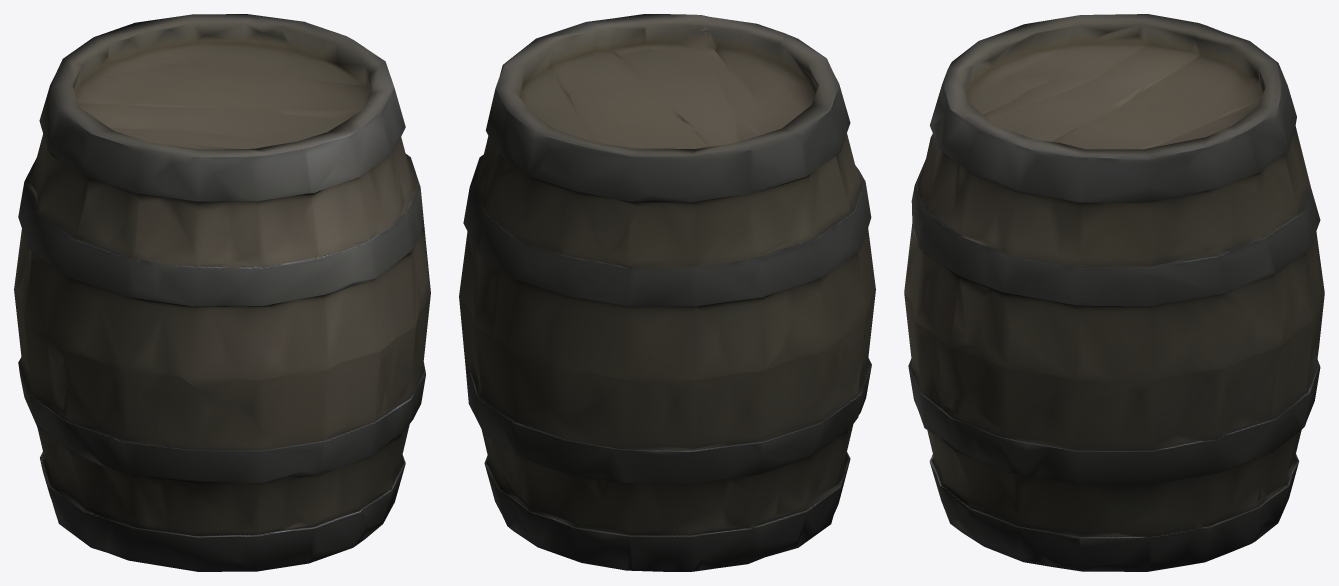
Rendered from wooden_barrel.glb.
3 renders of one model, left to right at view 1: azimuth 30°, elevation 25°; view 2: azimuth 150°, elevation 25°; view 3: azimuth 270°, elevation 25°, orthographic.
Visible parts, largest first — view 1: tripo_node_d9dc9df2-ad14-4c6b-9a20-de070fd75124; view 2: tripo_node_d9dc9df2-ad14-4c6b-9a20-de070fd75124; view 3: tripo_node_d9dc9df2-ad14-4c6b-9a20-de070fd75124.
Boxes of the visible parts, bbox=[...] form: tripo_node_d9dc9df2-ad14-4c6b-9a20-de070fd75124: bbox=[14, 14, 430, 571]; tripo_node_d9dc9df2-ad14-4c6b-9a20-de070fd75124: bbox=[459, 14, 875, 571]; tripo_node_d9dc9df2-ad14-4c6b-9a20-de070fd75124: bbox=[904, 14, 1324, 571].
Size of the model in its own units: 0.8989 by 1 by 0.9161.
Materials: 1 (1 with a texture image).
